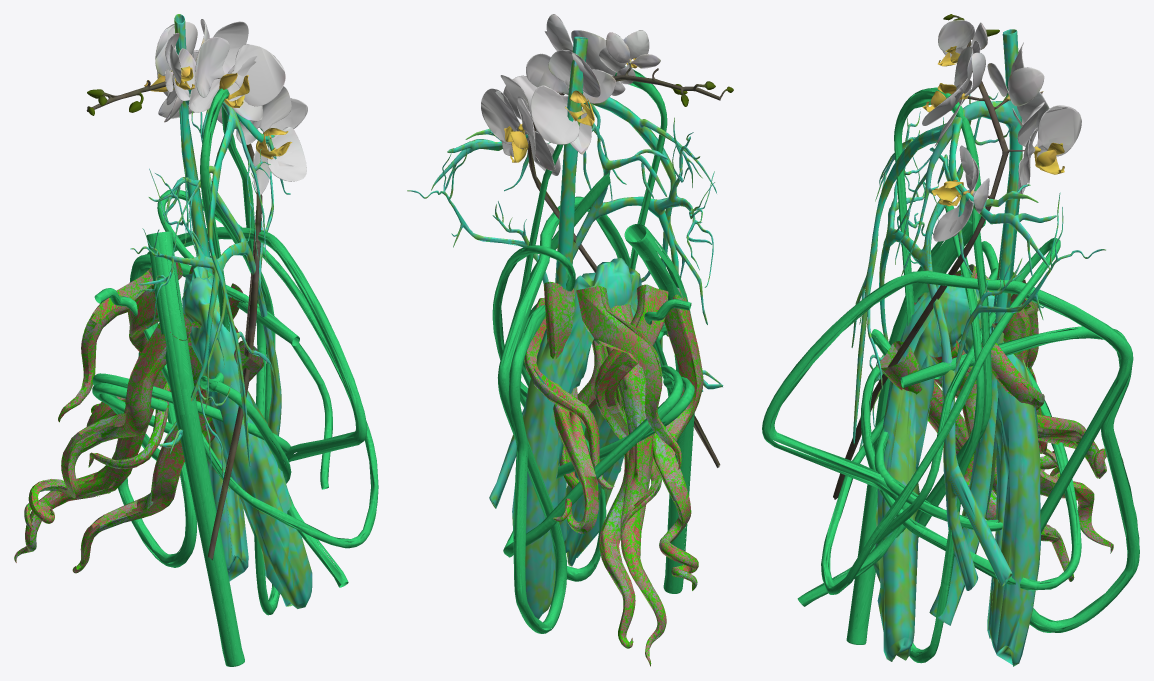
The model's file is worldtreetwovines.glb.
3 views of the same model, side by side, from view 1: azimuth 30°, elevation 25°; view 2: azimuth 150°, elevation 25°; view 3: azimuth 270°, elevation 25° (orthographic). The views are drawn at different scales.
Visible parts, largest first — view 1: human_liver_1128_vein.002; view 2: human_liver_1128_vein.002; view 3: human_liver_1128_vein.002.
Boxes of the visible parts, x1=… form: human_liver_1128_vein.002: x1=14, y1=14, x2=378, y2=666; human_liver_1128_vein.002: x1=407, y1=14, x2=733, y2=666; human_liver_1128_vein.002: x1=762, y1=14, x2=1139, y2=666.
Size of the model in its own units: 0.6571 by 1.4 by 0.7704.
Materials: 4 (4 with a texture image).
